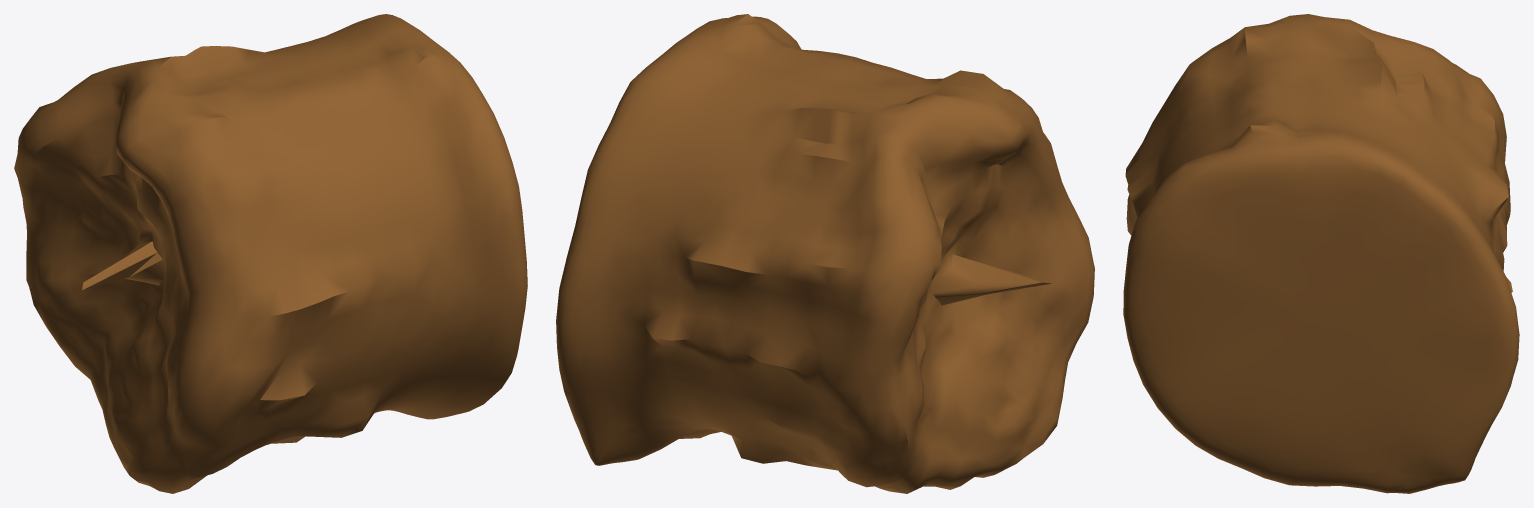
The picture shows the model from 3 angles, left to right: view 1: azimuth 30°, elevation 25°; view 2: azimuth 150°, elevation 25°; view 3: azimuth 270°, elevation 25°; orthographic projection. The views are drawn at different scales.
Bounding box in the file's own units: 1 × 0.9963 × 0.9972.
